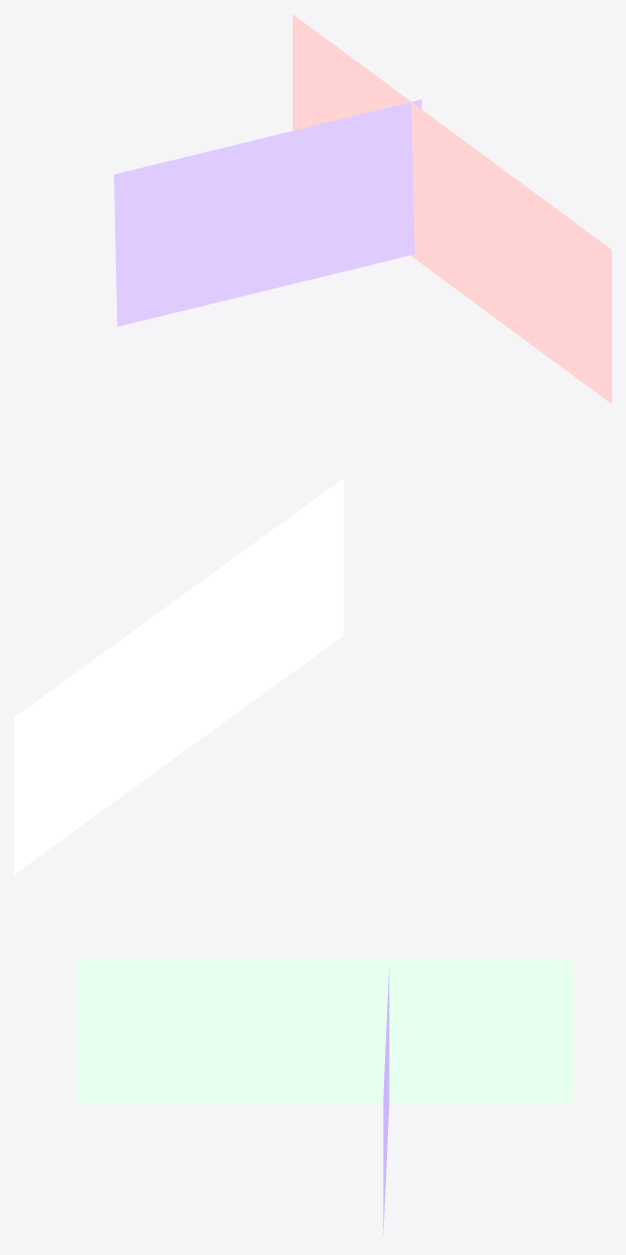
Rendered from scene_old.glb.
3 views of the same model, one above another, from view 1: azimuth 30°, elevation 25°; view 2: azimuth 150°, elevation 25°; view 3: azimuth 270°, elevation 25° (orthographic). The views are drawn at different scales.
Parts seen in each view (by area): view 1: Planebg, Planer; view 2: Planer; view 3: Planel, Planebg.
Boxes of the visible parts, x1,y1,x2,y2 form: Planebg: (114,99,421,326); Planer: (292,14,611,403); Planer: (14,478,343,874); Planel: (76,960,573,1102); Planebg: (383,967,389,1233).
Size of the model in its own units: 2.15 by 1.03 by 3.88.
